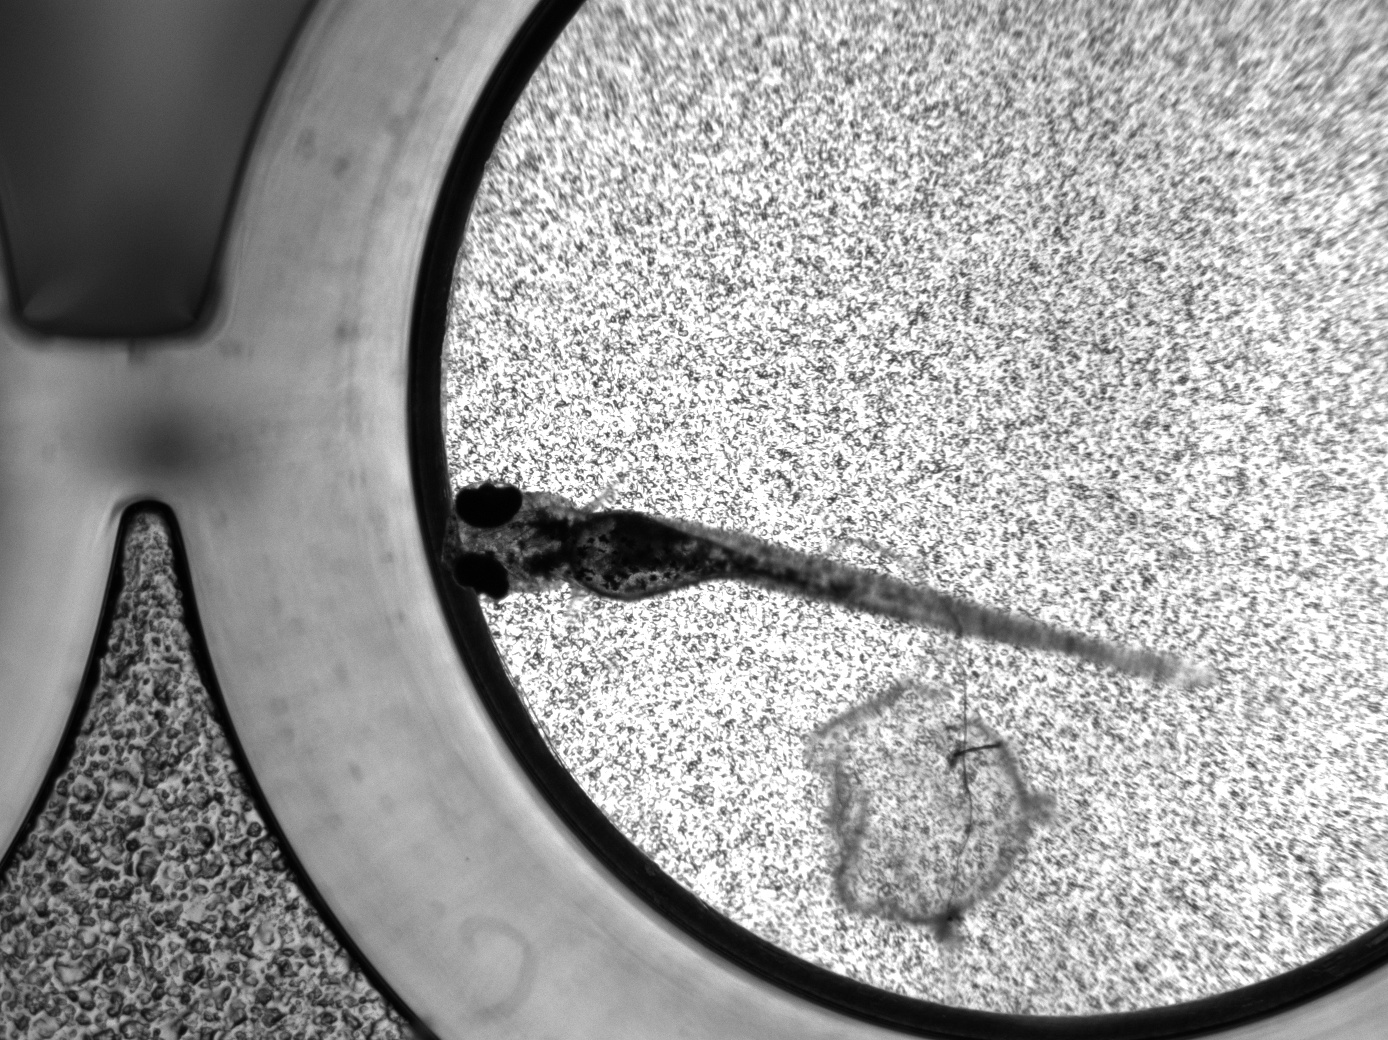debris: (803, 679, 1039, 935)
embryo: (443, 483, 1213, 697)
eye: (455, 482, 523, 529), (452, 552, 510, 601)
yolksac: (567, 511, 712, 602)
